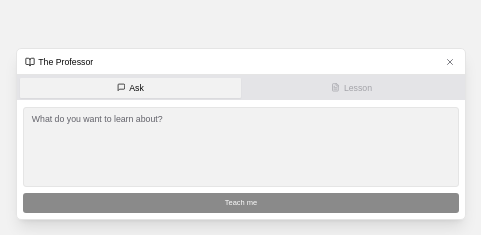
Test: Professor › submits form and displays lesson content when form is submitted
Type "javascript promises" into the text box with placeholder "What do you want to learn about?" at (241, 146), box [23,106,459,186]
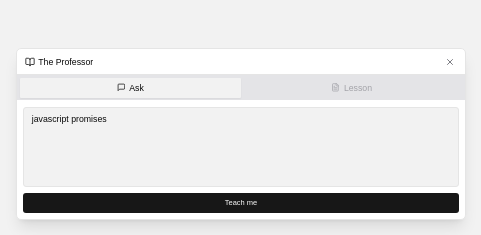
Note: Submit form
Click the button "Teach me" at (241, 203), box [23,193,459,213]
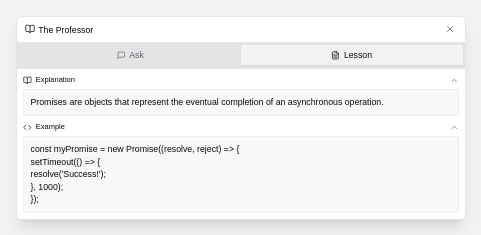
Expected: the text "Explanation" is shown, [23,75,75,85]
Expected: the text "Example" is shown, [23,122,65,132]
Expected: the text "Promises are objects" is shown, [30,97,384,107]
